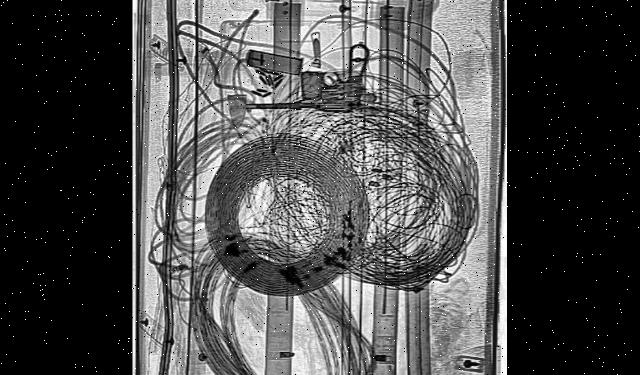Gun: (243, 40, 370, 118)
